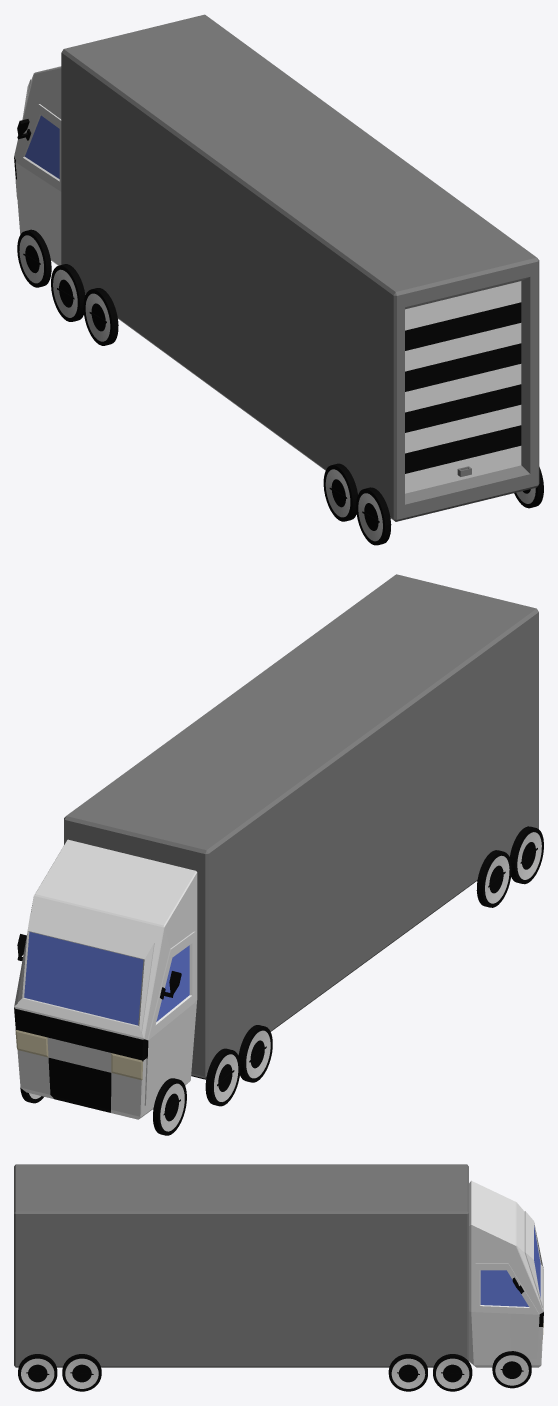
Rendered from lorry.fbx.
3 renders of one model, top to bottom at view 1: azimuth 30°, elevation 25°; view 2: azimuth 150°, elevation 25°; view 3: azimuth 270°, elevation 25°, orthographic. The views are drawn at different scales.
Visible parts, largest first — view 1: body.001, RearLeftWheel, FrontLeftWheel; view 2: body.001, RearLeftWheel, FrontLeftWheel; view 3: body.001, rearRightWheel, frontRightWheel.
Part boxes in pixels (bbox=[...]): body.001: bbox=[14, 14, 539, 521]; RearLeftWheel: bbox=[356, 487, 391, 545]; FrontLeftWheel: bbox=[17, 229, 51, 287]; body.001: bbox=[14, 574, 538, 1119]; RearLeftWheel: bbox=[509, 826, 543, 884]; FrontLeftWheel: bbox=[153, 1078, 186, 1135]; body.001: bbox=[14, 1164, 543, 1391]; rearRightWheel: bbox=[18, 1354, 57, 1391]; frontRightWheel: bbox=[492, 1351, 531, 1388].
Size of the model in its own units: 57.11 by 88.16 by 239.
